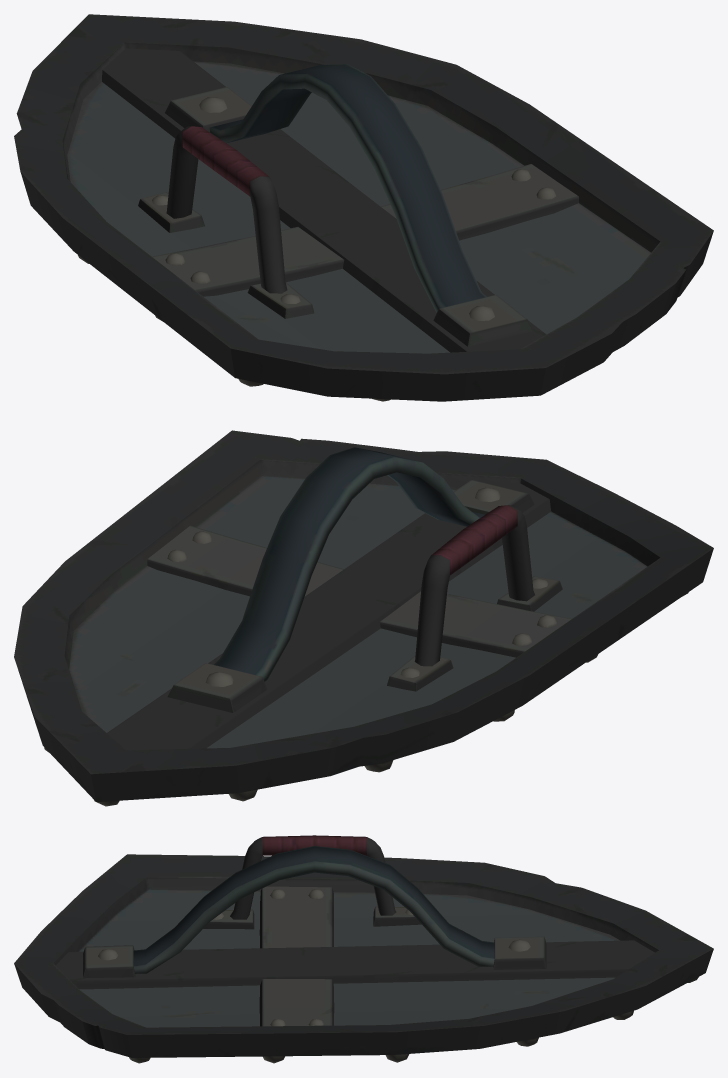
The model's file is Weapon_Shield_003.glb.
The picture shows the model from 3 angles, top to bottom: view 1: azimuth 30°, elevation 25°; view 2: azimuth 150°, elevation 25°; view 3: azimuth 270°, elevation 25°; orthographic projection. The views are drawn at different scales.
Parts seen in each view (by area): view 1: Weapon_Shield_003; view 2: Weapon_Shield_003; view 3: Weapon_Shield_003.
Boxes of the visible parts, x1=… form: Weapon_Shield_003: x1=14, y1=14, x2=713, y2=401; Weapon_Shield_003: x1=14, y1=430, x2=713, y2=806; Weapon_Shield_003: x1=14, y1=835, x2=713, y2=1063.
Size of the model in its own units: 0.52 by 0.2291 by 0.8518.
1 material, 1 textured.
